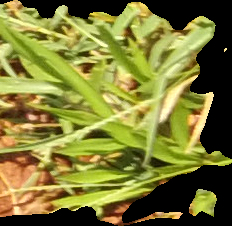grass: (1, 1, 231, 224)
